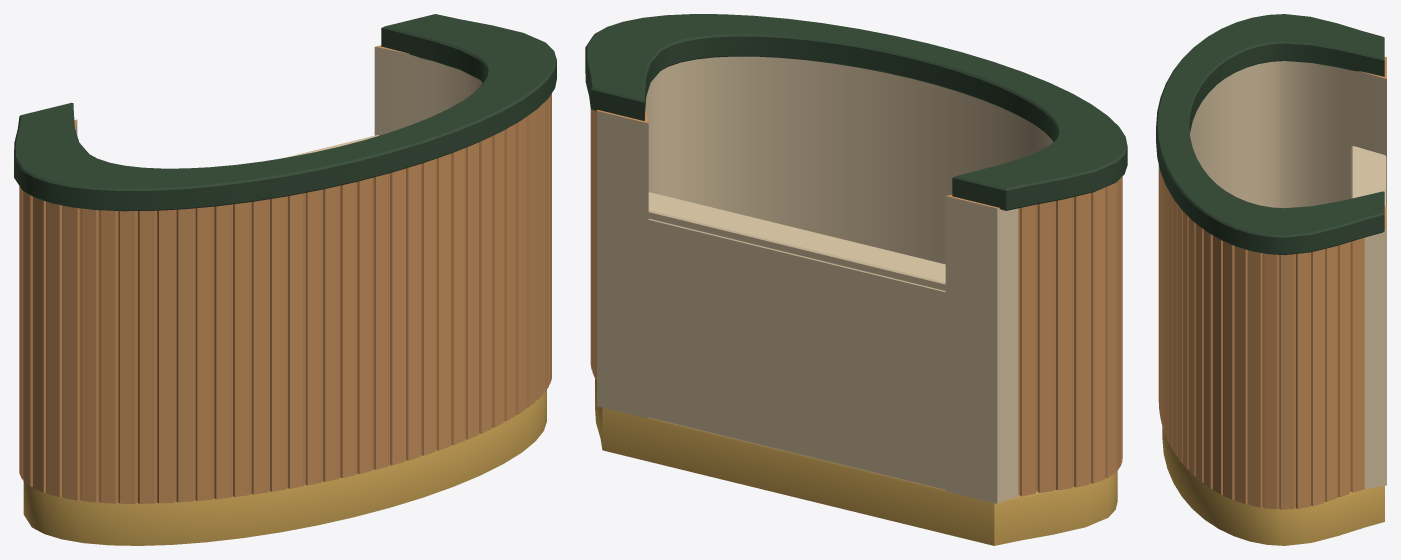
The model's file is GJH_PUB_018.glb.
3 renders of one model, left to right at view 1: azimuth 30°, elevation 25°; view 2: azimuth 150°, elevation 25°; view 3: azimuth 270°, elevation 25°, orthographic. The views are drawn at different scales.
Parts seen in each view (by area): view 1: GJH-PUB-018; view 2: GJH-PUB-018; view 3: GJH-PUB-018.
Boxes of the visible parts, box(x1,y1,x2,y2) form: GJH-PUB-018: box(14, 14, 556, 545); GJH-PUB-018: box(585, 14, 1127, 545); GJH-PUB-018: box(1156, 14, 1386, 545).
Size of the model in its own units: 1.6 by 1.05 by 0.7.
